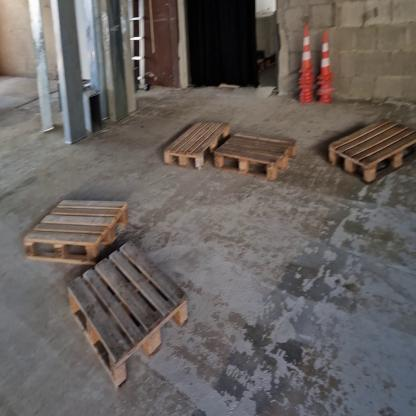BoxFace: (65, 236, 191, 398), (21, 193, 129, 266), (323, 113, 415, 193), (210, 127, 302, 189), (160, 115, 232, 174)
